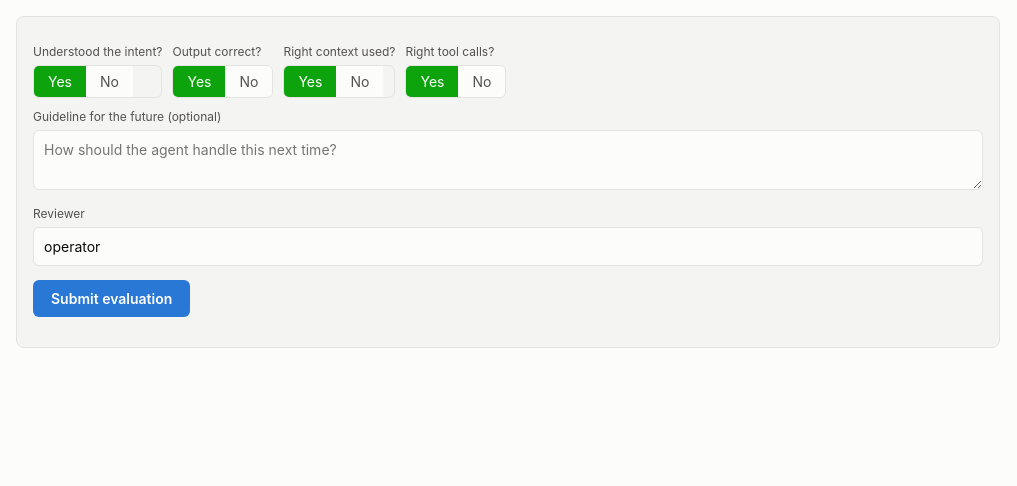
Test case: EvalForm › offers the policy toggle only once a guideline is typed
The image size is (1017, 486).
Expected: the text "Critical policy" is not shown
Type "Always confirm the order number" into the text box with placeholder "How should the agent handle this next time?" at (508, 160), box [33,130,983,190]
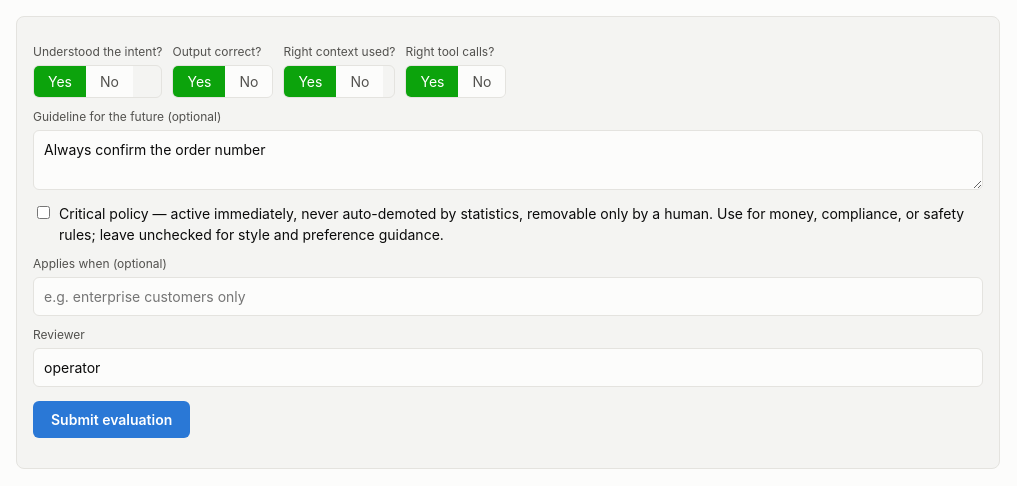
Expected: the text "Critical policy" is shown, [59,205,964,243]
